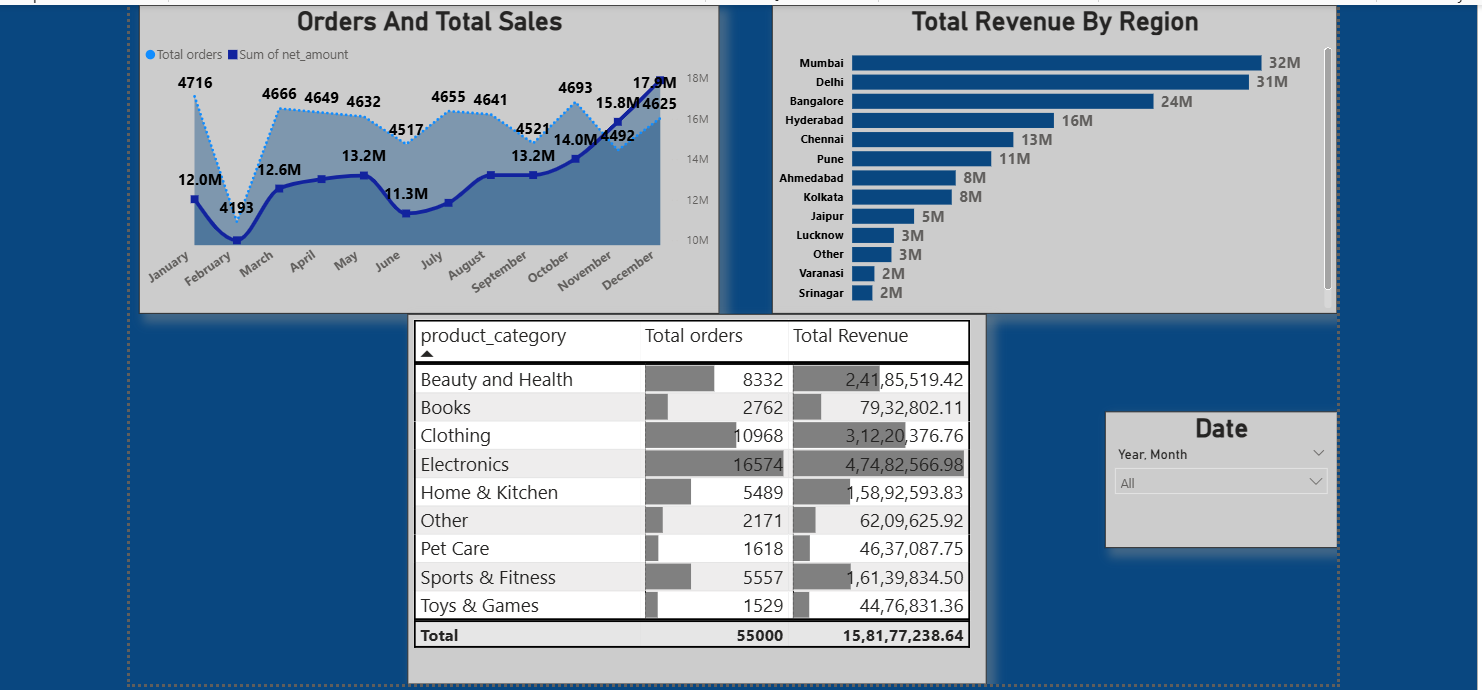

The dashboard page shown, as its layout file describes it:
{"tool":"powerbi","page":{"name":"Page 2","canvas":[1280,720],"ordinal":1},"visuals":[{"type":"areaChart","title":"Orders And Total Sales","fields":{"Category":["ecommerce ecommerce_orders.purchase_date.Variation.Date Hierarchy.Month"],"Y2":["Sum(ecommerce ecommerce_orders.net_amount)"],"Y":["ecommerce ecommerce_orders.Total orders"]},"box":[9.5,0,615.6,327.7],"z":0},{"type":"clusteredBarChart","title":"Total Revenue By Region","fields":{"Category":["ecommerce revenue_by_region.location"],"Y":["Sum(ecommerce revenue_by_region.Total_revenue)"]},"box":[680.8,0,599.7,327.7],"z":1},{"type":"tableEx","fields":{"Values":["ecommerce ecommerce_orders.product_category","ecommerce ecommerce_orders.Total orders","ecommerce ecommerce_orders.Total Revenue"]},"box":[294.3,327.7,614,392.9],"z":2},{"type":"slicer","title":"Date","fields":{"Values":["ecommerce ecommerce_orders.purchase_date.Variation.Date Hierarchy.Year","ecommerce ecommerce_orders.purchase_date.Variation.Date Hierarchy.Month"]},"box":[1033.9,431.1,246.5,144.7],"z":3}]}

Visuals, with their boxes on the page's 1280x720 design canvas (x1, y1, x2, y2). These are canvas units, not pixel positions in the 1482x690 screenshot, which may show the page scaled, cropped or inside an application window:
"Orders And Total Sales" areaChart: rect(10, 0, 625, 328)
"Total Revenue By Region" clusteredBarChart: rect(681, 0, 1280, 328)
tableEx - ecommerce ecommerce_orders.product_category x ecommerce ecommerce_orders.Total orders: rect(294, 328, 908, 721)
"Date" slicer: rect(1034, 431, 1280, 576)
